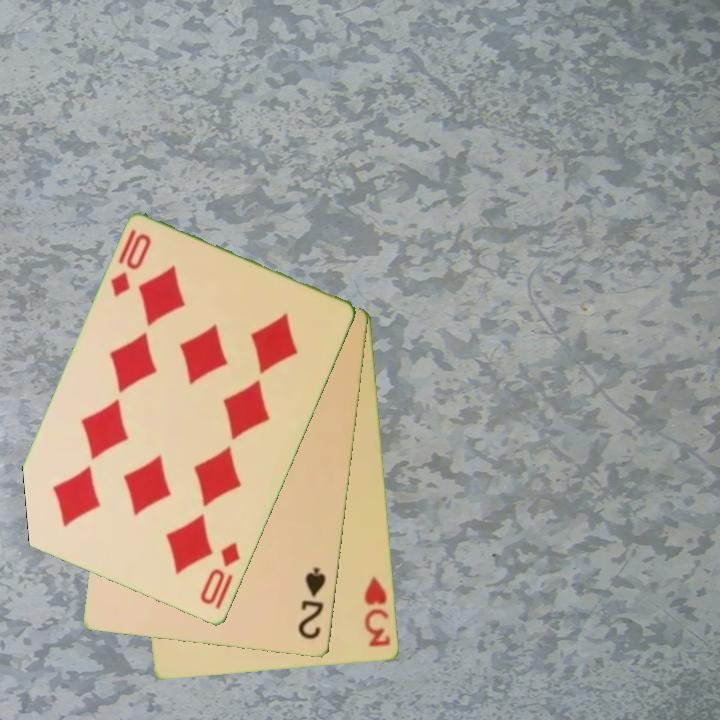10d: (106, 230, 155, 301), (197, 539, 244, 609)
2s: (295, 564, 329, 643)
3h: (361, 572, 394, 650)
